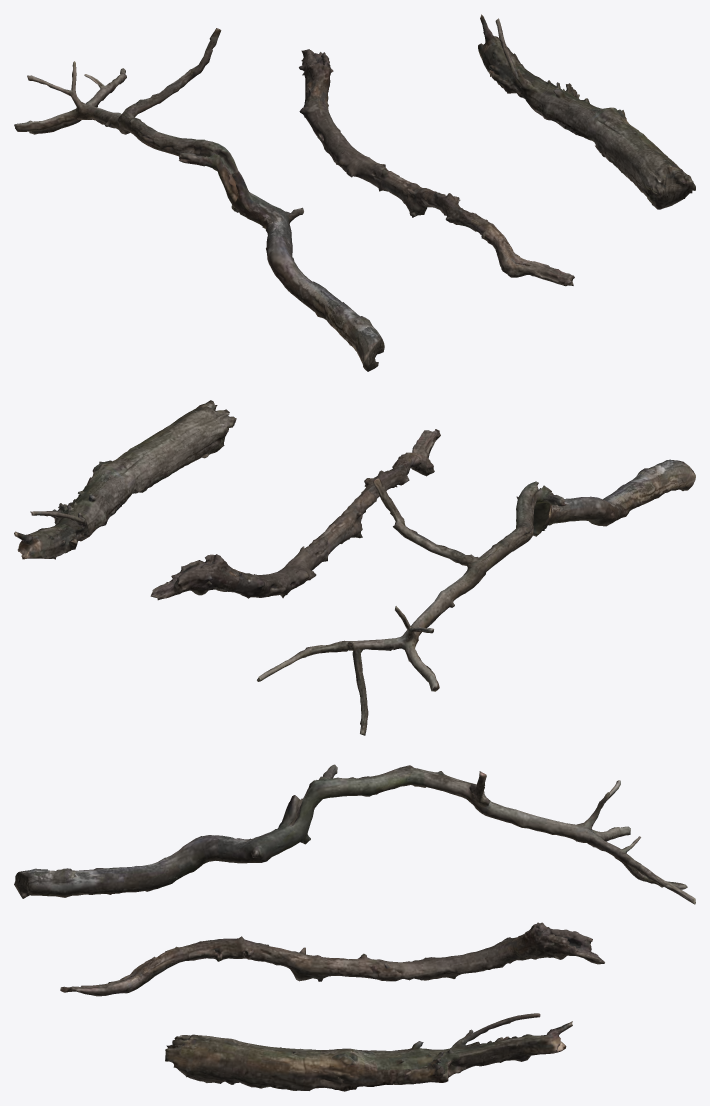
3 views of the same model, one above another, from view 1: azimuth 30°, elevation 25°; view 2: azimuth 150°, elevation 25°; view 3: azimuth 270°, elevation 25° (orthographic). The views are drawn at different scales.
Parts seen in each view (by area): view 1: dry_branches_medium_01_a, dry_branches_medium_01_c, dry_branches_medium_01_b; view 2: dry_branches_medium_01_a, dry_branches_medium_01_c, dry_branches_medium_01_b; view 3: dry_branches_medium_01_a, dry_branches_medium_01_c, dry_branches_medium_01_b.
Part boxes in pixels (x1=…): dry_branches_medium_01_a: x1=14, y1=28, x2=384, y2=371; dry_branches_medium_01_c: x1=478, y1=14, x2=695, y2=209; dry_branches_medium_01_b: x1=299, y1=49, x2=574, y2=286; dry_branches_medium_01_a: x1=257, y1=459, x2=695, y2=735; dry_branches_medium_01_c: x1=14, y1=400, x2=236, y2=559; dry_branches_medium_01_b: x1=150, y1=429, x2=440, y2=600; dry_branches_medium_01_a: x1=14, y1=764, x2=695, y2=904; dry_branches_medium_01_c: x1=165, y1=1013, x2=572, y2=1091; dry_branches_medium_01_b: x1=60, y1=922, x2=604, y2=996.
Bounding box in the file's own units: 1.06 × 0.341 × 1.3.
Materials: 1 (1 with a texture image).
